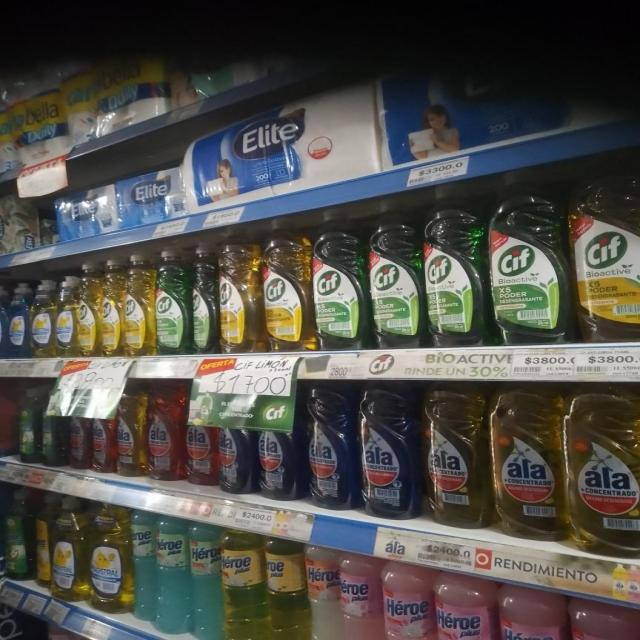ala_conc_amarillo: (568, 383, 640, 558), (491, 382, 565, 540), (423, 382, 489, 528), (117, 382, 146, 478)
ala_conc_azul: (360, 379, 420, 518), (302, 378, 358, 509), (258, 381, 298, 501), (217, 378, 256, 496)
ala_conc_rojo: (148, 379, 185, 483), (186, 380, 216, 488), (91, 386, 116, 475), (68, 388, 90, 471)
cif_conc_bot_amarilla: (572, 156, 640, 343), (263, 220, 312, 352), (218, 230, 260, 354), (124, 252, 155, 357), (100, 257, 122, 357), (78, 259, 100, 358)
cif_conc_botella_verde: (489, 170, 569, 346), (425, 182, 485, 348), (368, 196, 422, 350), (313, 207, 367, 351), (155, 247, 189, 356), (191, 243, 217, 354)
heroe: (224, 525, 266, 640), (384, 559, 437, 640), (156, 511, 190, 636), (437, 573, 499, 640), (268, 534, 307, 640), (500, 586, 571, 640), (191, 518, 222, 640), (341, 551, 382, 640), (133, 506, 156, 625), (573, 599, 639, 640)
magistral_con_amarillo: (89, 502, 131, 614), (51, 495, 88, 603), (30, 278, 54, 359), (55, 276, 76, 358), (36, 491, 50, 588)
magistral_con_azul: (8, 283, 28, 359), (0, 283, 7, 358)
